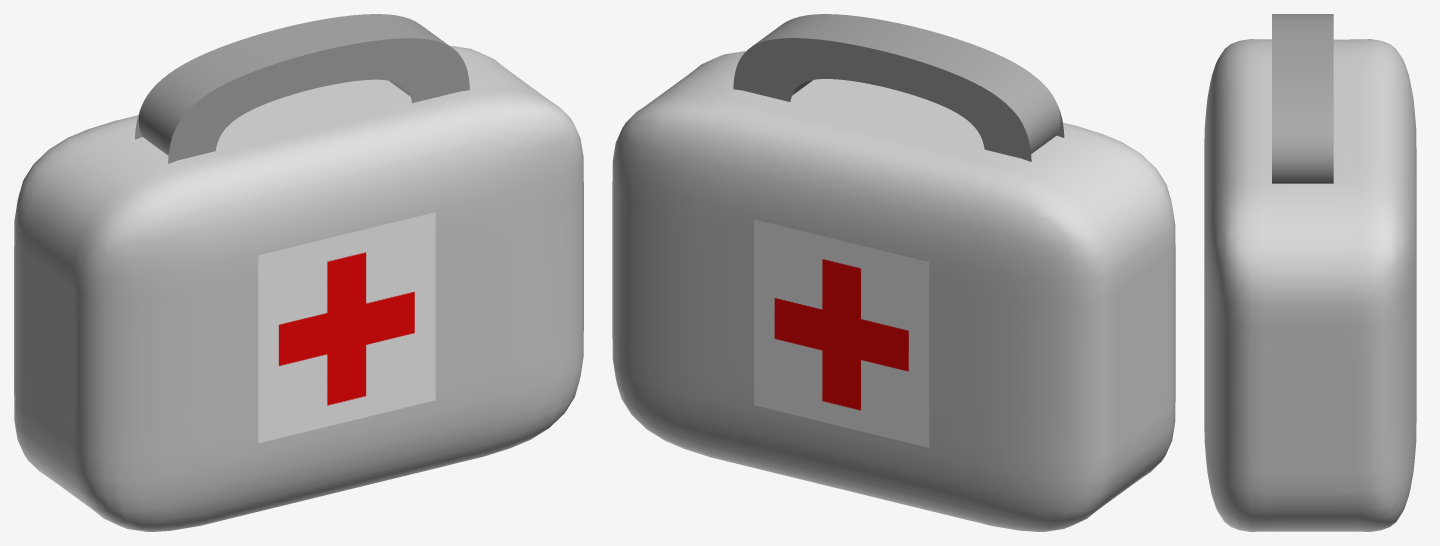
The model's file is First Aid Kit2.FBX.
The picture shows the model from 3 angles, left to right: view 1: azimuth 30°, elevation 25°; view 2: azimuth 150°, elevation 25°; view 3: azimuth 270°, elevation 25°; orthographic projection. The views are drawn at different scales.
Visible parts, largest first — view 1: Caja01, Plano03, Ext-C01; view 2: Caja01, Plano02, Ext-C01; view 3: Caja01, Ext-C01.
Part boxes in pixels (x1,y1,x2,y2): Caja01: (14, 46, 583, 531); Plano03: (258, 212, 435, 443); Ext-C01: (135, 14, 469, 163); Caja01: (612, 51, 1175, 531); Plano02: (754, 219, 929, 447); Ext-C01: (733, 14, 1064, 161); Caja01: (1204, 39, 1416, 531); Ext-C01: (1272, 14, 1333, 183).
Bounding box in the file's own units: 50.88 × 41.85 × 21.
3 materials, 1 textured.
